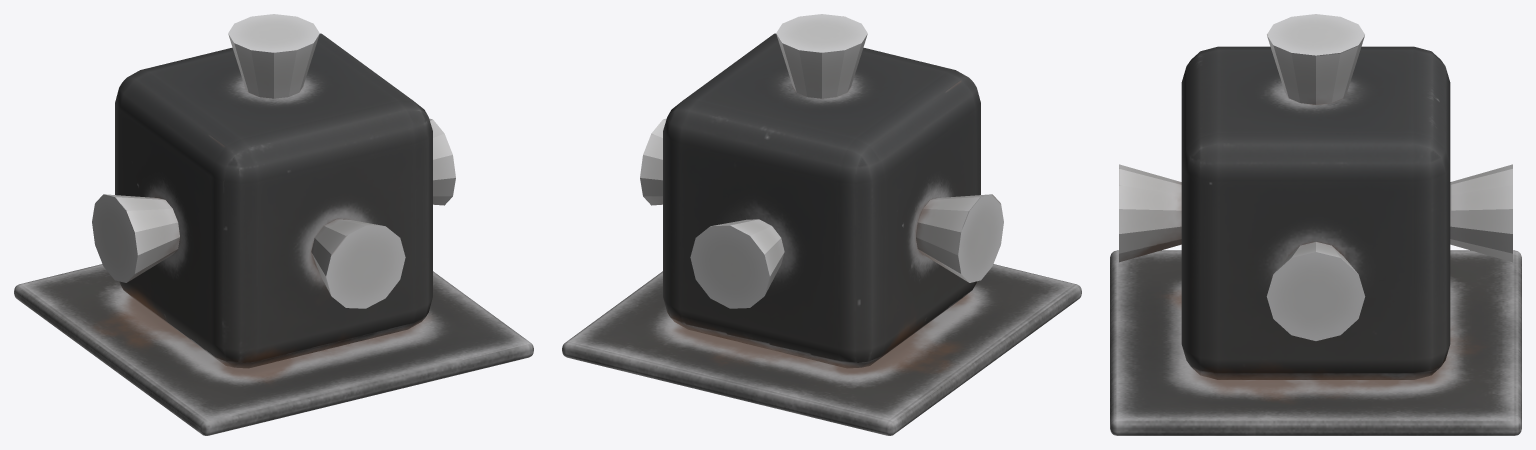
File: SM_PartRCS.glb
3 views of the same model, side by side, from view 1: azimuth 30°, elevation 25°; view 2: azimuth 150°, elevation 25°; view 3: azimuth 270°, elevation 25° (orthographic). The views are drawn at different scales.
Visible parts, largest first — view 1: SM_PartRCS; view 2: SM_PartRCS; view 3: SM_PartRCS.
Part boxes in pixels (<box>): SM_PartRCS: <box>14,14,533,435</box>; SM_PartRCS: <box>562,14,1081,435</box>; SM_PartRCS: <box>1110,14,1521,435</box>.
Bounding box in the file's own units: 0.46 × 0.39 × 0.46.
Materials: 2 (2 with a texture image).
